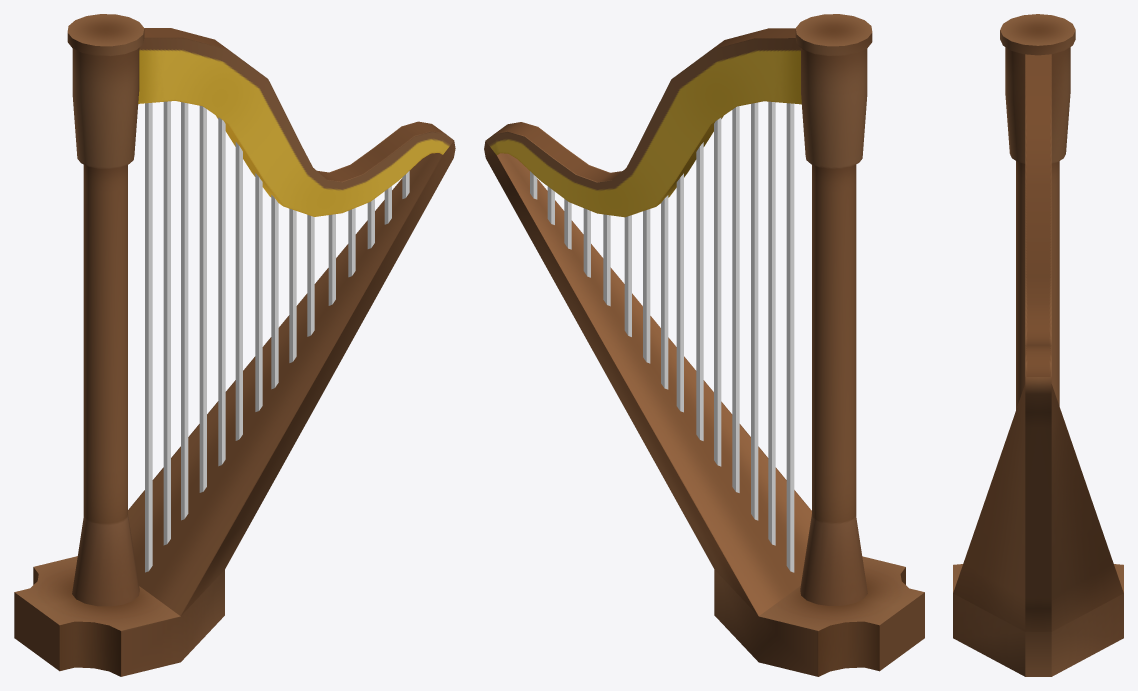
Rendered from harp.FBX.
3 views of the same model, side by side, from view 1: azimuth 30°, elevation 25°; view 2: azimuth 150°, elevation 25°; view 3: azimuth 270°, elevation 25° (orthographic). The views are drawn at different scales.
Visible parts, largest first — view 1: harp; view 2: harp; view 3: harp.
Part boxes in pixels (x1,y1,x2,y2): harp: (14,14,455,676); harp: (484,14,924,676); harp: (953,14,1123,676).
Bounding box in the file's own units: 39.78 × 56.11 × 14.65.
